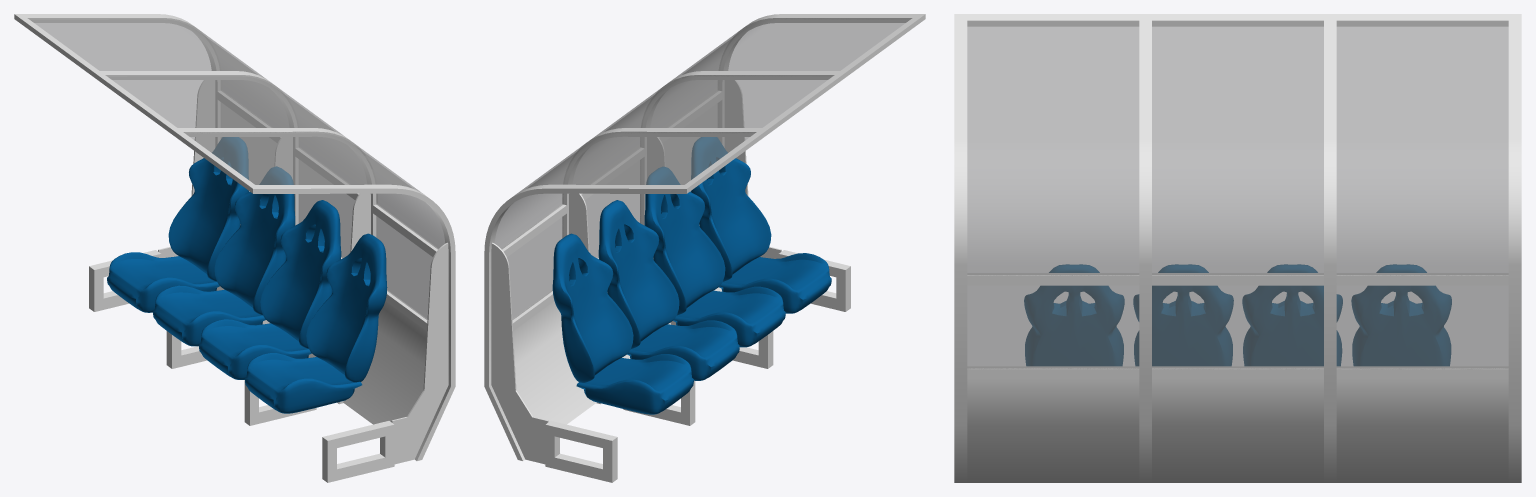
File: DugoutShort.fbx
The picture shows the model from 3 angles, left to right: view 1: azimuth 30°, elevation 25°; view 2: azimuth 150°, elevation 25°; view 3: azimuth 270°, elevation 25°; orthographic projection. The views are drawn at different scales.
Visible parts, largest first — view 1: DugoutShort_LOD0; view 2: DugoutShort_LOD0; view 3: DugoutShort_LOD0.
Part boxes in pixels (<box>): DugoutShort_LOD0: <box>14,14,455,482</box>; DugoutShort_LOD0: <box>484,14,925,482</box>; DugoutShort_LOD0: <box>954,14,1521,482</box>.
Size of what is drawn, in the model's own units: 126 by 186 by 258.
